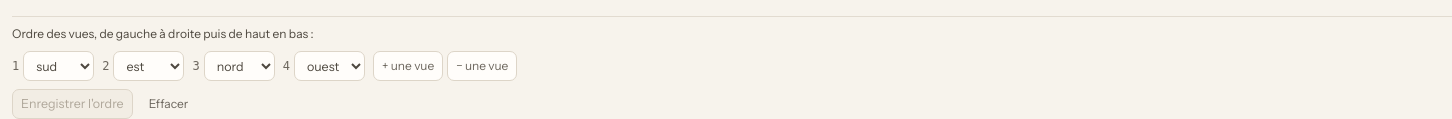
Scenario: un ordre enregistré se relit, et s'efface
(page scrolled)
Expected: the dropdown named "Vue 2" shows "est", [114, 51, 184, 81]
Click the button "Effacer" at (169, 104), box [141, 89, 196, 118]
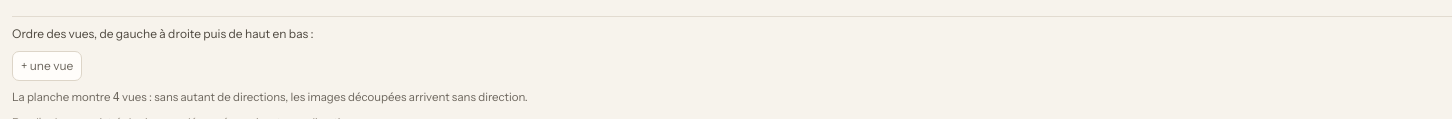
Now the button "Effacer" is gone
